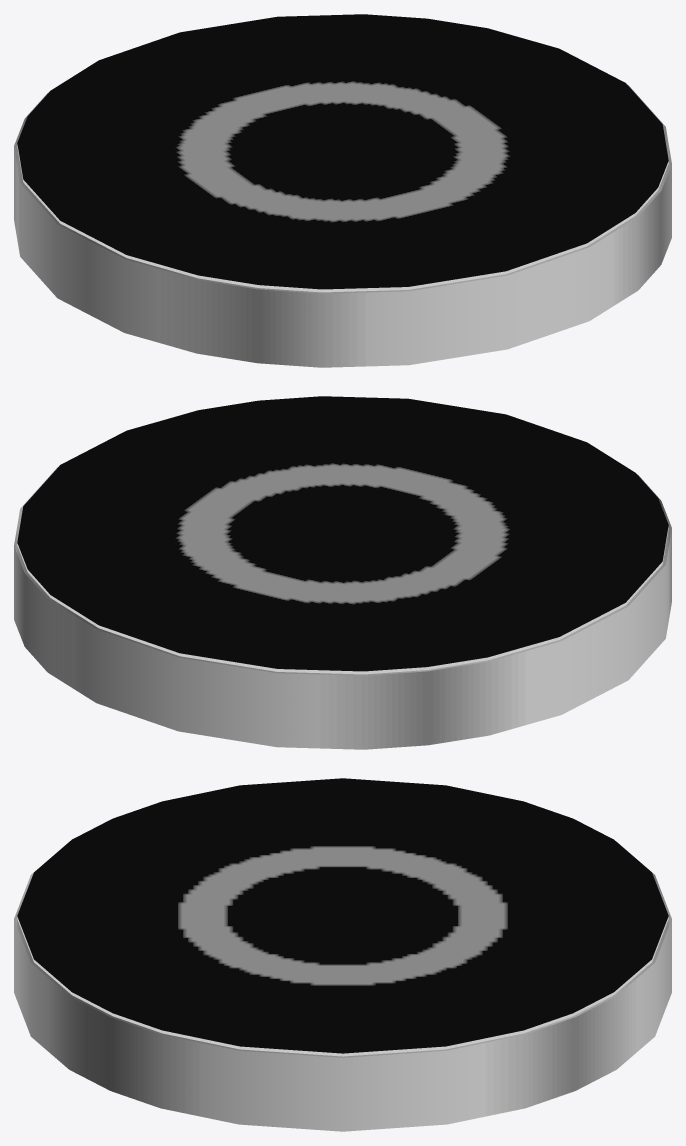
File: disk.obj
3 views of the same model, one above another, from view 1: azimuth 30°, elevation 25°; view 2: azimuth 150°, elevation 25°; view 3: azimuth 270°, elevation 25° (orthographic).
Visible parts, largest first — view 1: Disk5, Disk3, Disk2, Disk1, Disk9; view 2: Disk5, Disk4, Disk2, Disk1, Disk9; view 3: Disk5, Disk9, Disk3, Disk4, Disk1.
Boxes of the visible parts, <box> form: Disk5: <box>17,14,668,289</box>; Disk3: <box>257,191,661,367</box>; Disk2: <box>14,119,257,363</box>; Disk1: <box>17,145,668,293</box>; Disk9: <box>627,84,671,264</box>; Disk5: <box>17,396,668,671</box>; Disk4: <box>24,573,428,749</box>; Disk2: <box>428,501,671,745</box>; Disk1: <box>17,527,668,675</box>; Disk9: <box>14,466,58,646</box>; Disk5: <box>17,778,668,1053</box>; Disk9: <box>110,1017,575,1131</box>; Disk3: <box>14,842,110,1090</box>; Disk4: <box>575,842,671,1090</box>; Disk1: <box>17,917,668,1057</box>.
Bounding box in the file's own units: 4.04 × 0.52 × 4.04.
6 materials, 6 textured.
